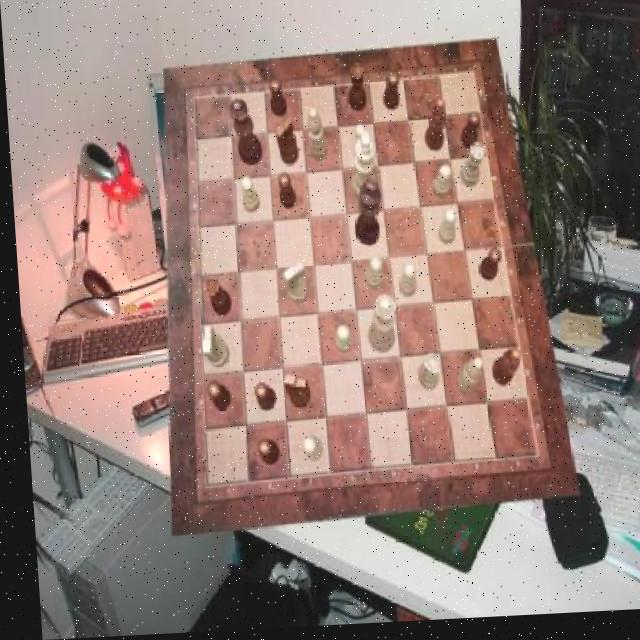bishop: (420, 102, 446, 157), (485, 352, 517, 391)
black-bishop: (349, 182, 380, 249)
black-king: (272, 121, 297, 169), (279, 376, 305, 412)
black-knight: (474, 252, 499, 287), (456, 116, 478, 153), (200, 382, 225, 414), (380, 75, 399, 114), (266, 81, 285, 119), (274, 175, 293, 211), (249, 385, 272, 413), (250, 441, 274, 467)
black-pawn: (227, 102, 260, 169)
black-queen: (200, 279, 226, 319), (345, 65, 365, 115)
black-rook: (449, 363, 479, 402), (304, 110, 325, 165)
white-bishop: (345, 134, 376, 208)
white-king: (196, 327, 224, 370), (278, 265, 303, 308)
white-knight: (433, 213, 454, 250), (428, 170, 450, 204), (237, 180, 257, 216), (350, 127, 368, 165), (394, 267, 413, 302), (360, 261, 379, 295), (296, 439, 317, 465), (330, 330, 349, 358)
white-pawn: (360, 297, 393, 356)
white-queen: (455, 147, 483, 194), (411, 357, 437, 395)
